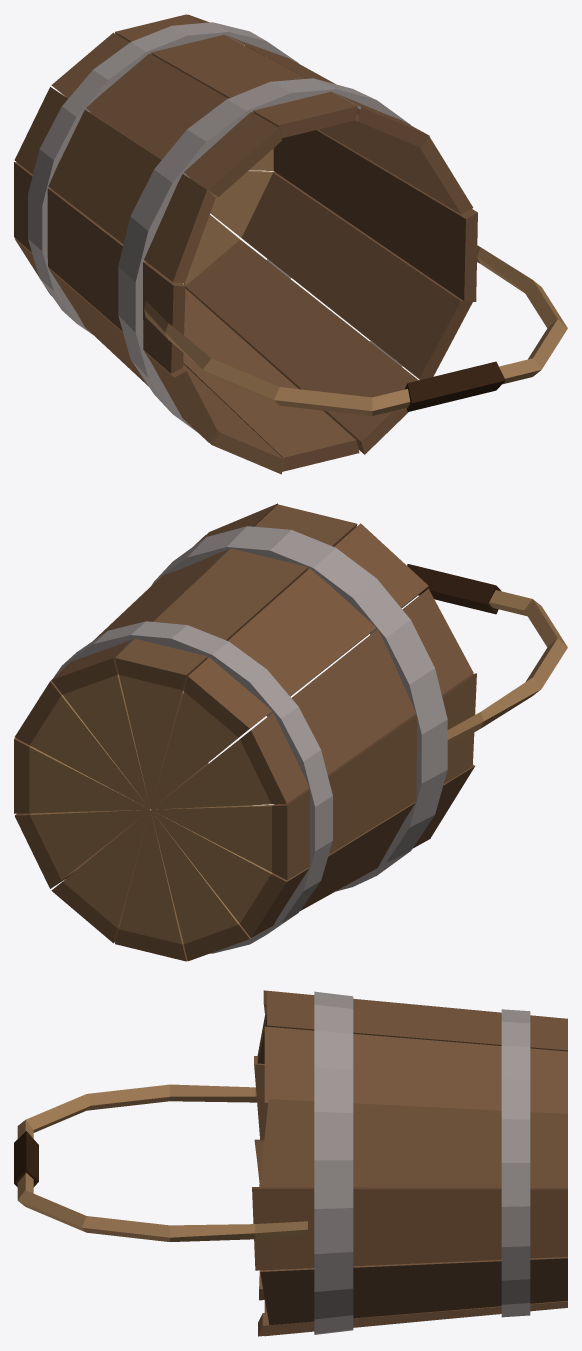
File: Bucket_02.fbx
The picture shows the model from 3 angles, top to bottom: view 1: azimuth 30°, elevation 25°; view 2: azimuth 150°, elevation 25°; view 3: azimuth 270°, elevation 25°; orthographic projection. The views are drawn at different scales.
Parts seen in each view (by area): view 1: Bucket_2.0_LOW.002; view 2: Bucket_2.0_LOW.002; view 3: Bucket_2.0_LOW.002.
Part boxes in pixels (bbox=[...]): Bucket_2.0_LOW.002: bbox=[14, 14, 567, 474]; Bucket_2.0_LOW.002: bbox=[14, 503, 567, 961]; Bucket_2.0_LOW.002: bbox=[14, 990, 567, 1336].
Size of the model in its own units: 38 by 37.82 by 59.84.
